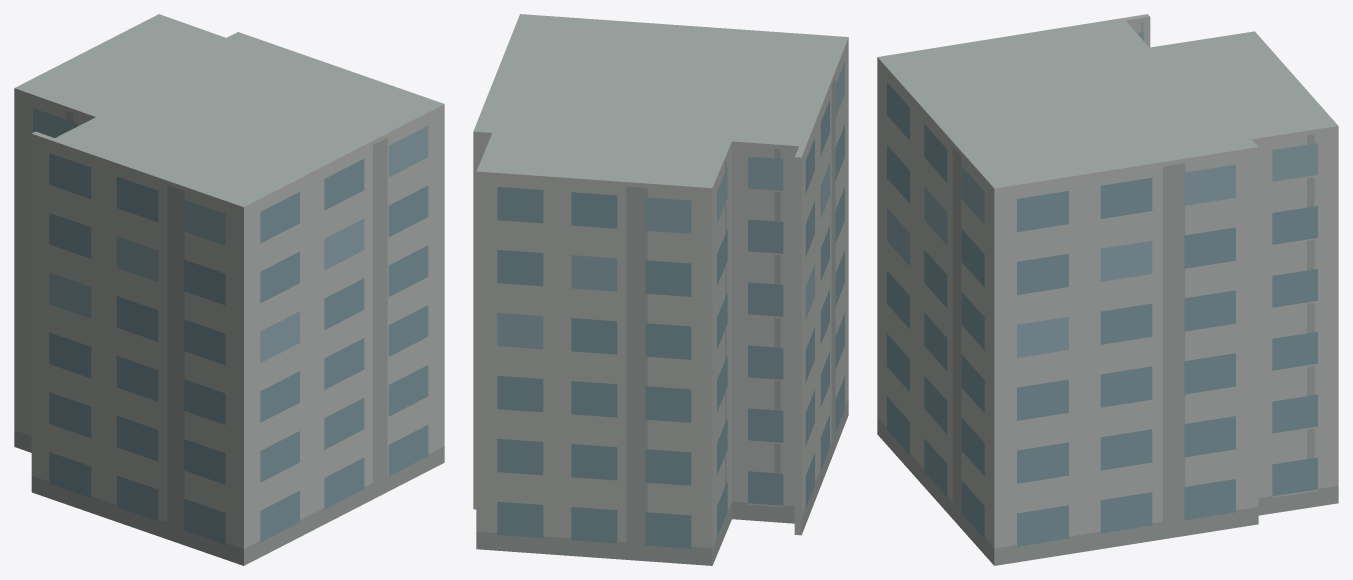
Rendered from survey-upis-32991612.glb.
The picture shows the model from 3 angles, left to right: view 1: azimuth 30°, elevation 25°; view 2: azimuth 150°, elevation 25°; view 3: azimuth 270°, elevation 25°; orthographic projection. The views are drawn at different scales.
Visible parts, largest first — view 1: survey-upis-32991612.tmp; view 2: survey-upis-32991612.tmp; view 3: survey-upis-32991612.tmp.
Boxes of the visible parts, box(x1,y1,x2,y2) form: survey-upis-32991612.tmp: box(14, 14, 444, 565); survey-upis-32991612.tmp: box(473, 14, 848, 565); survey-upis-32991612.tmp: box(877, 14, 1338, 565).
Bounding box in the file's own units: 20.44 × 20.58 × 22.81.
